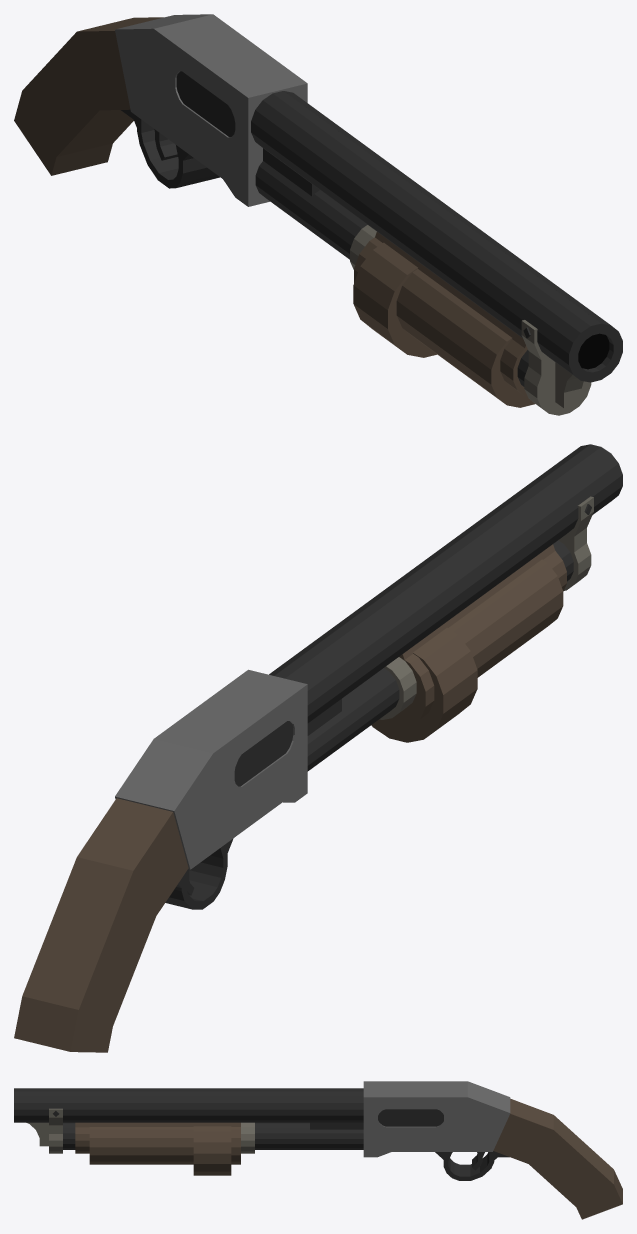
Rendered from shotgun.obj.
The picture shows the model from 3 angles, top to bottom: view 1: azimuth 30°, elevation 25°; view 2: azimuth 150°, elevation 25°; view 3: azimuth 270°, elevation 25°; orthographic projection. The views are drawn at different scales.
Parts seen in each view (by area): view 1: cube; view 2: cube; view 3: cube.
Part boxes in pixels (x1,y1,x2,y2): cube: [14, 14, 622, 415]; cube: [14, 444, 622, 1052]; cube: [14, 1081, 622, 1219].
Bounding box in the file's own units: 1.51 × 3.59 × 16.11.
1 material, 1 textured.
